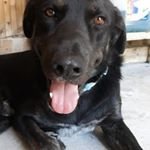puppy: (21, 1, 128, 142)
